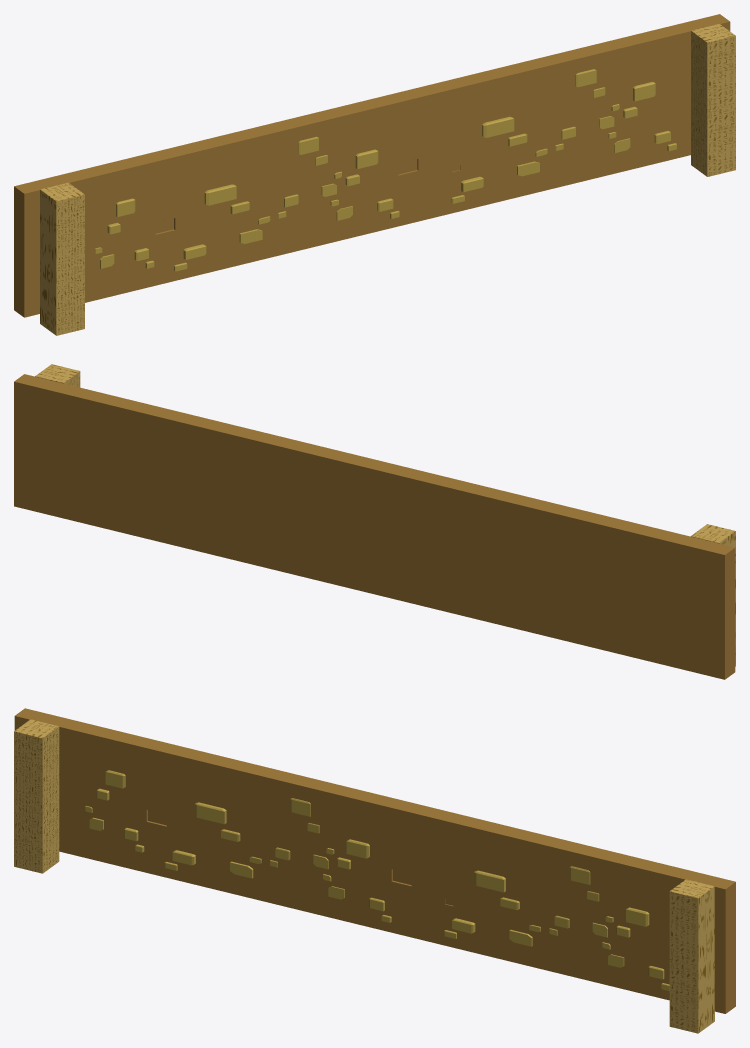
File: EG_BackWall.fbx
3 views of the same model, one above another, from view 1: azimuth 30°, elevation 25°; view 2: azimuth 150°, elevation 25°; view 3: azimuth 330°, elevation 25° (orthographic).
Visible parts, largest first — view 1: Cube.027; view 2: Cube.027; view 3: Cube.027.
Part boxes in pixels (left/top/right/bottom): Cube.027: left=14, top=14, right=735, bottom=335; Cube.027: left=14, top=364, right=735, bottom=679; Cube.027: left=14, top=708, right=735, bottom=1033.
Size of the model in its own units: 2313 by 421 by 152.
Materials: 3 (1 with a texture image).
